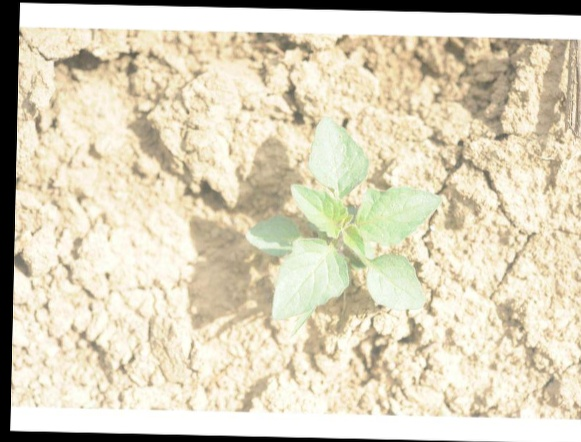nightshade: (246, 118, 442, 322)
